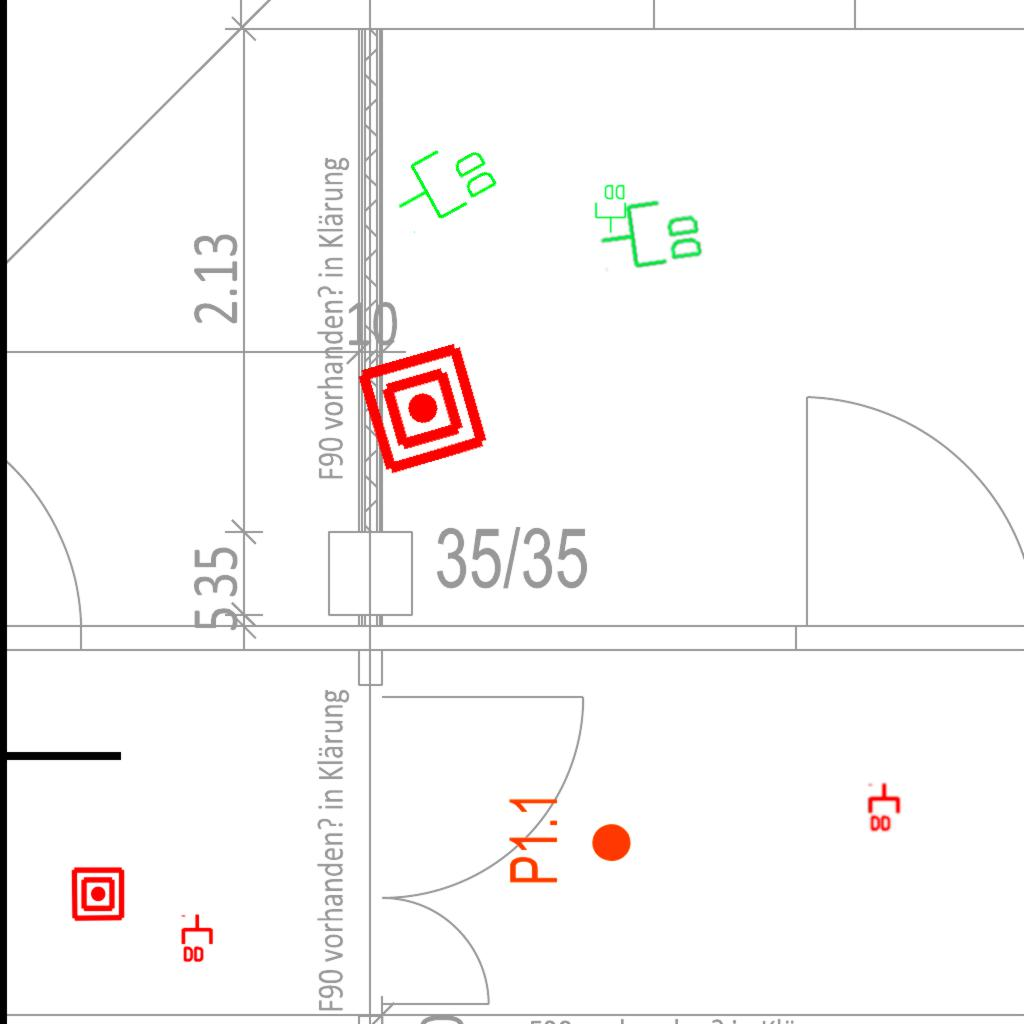Datenanschluss_zweifach: (380, 128, 505, 239), (594, 193, 707, 276), (867, 781, 903, 834), (181, 913, 215, 964), (594, 183, 628, 234)
Downlight_LED_Einbauleuchten_Flur: (506, 793, 634, 886)
NAM-Nichtautomatischer_Melder: (352, 338, 493, 479), (70, 866, 126, 922)
